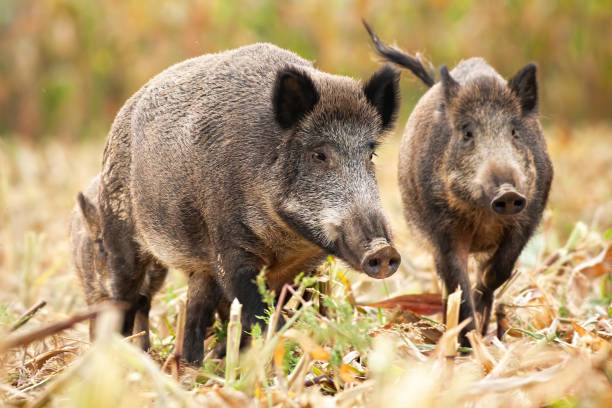pig: (177, 65, 411, 294), (440, 65, 572, 243)
